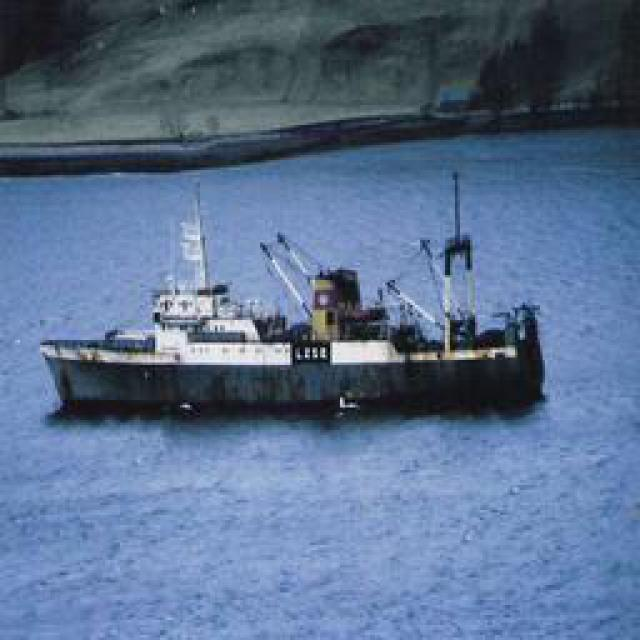Ship: (30, 194, 560, 419)
